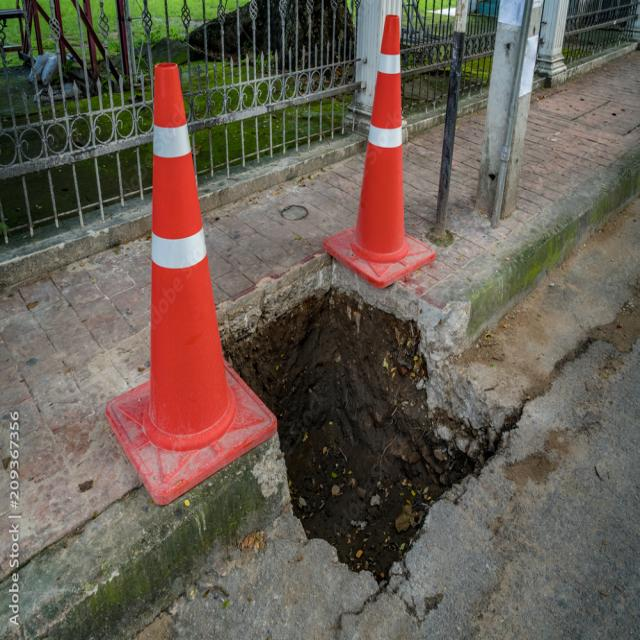Pothole: (116, 222, 640, 614)
